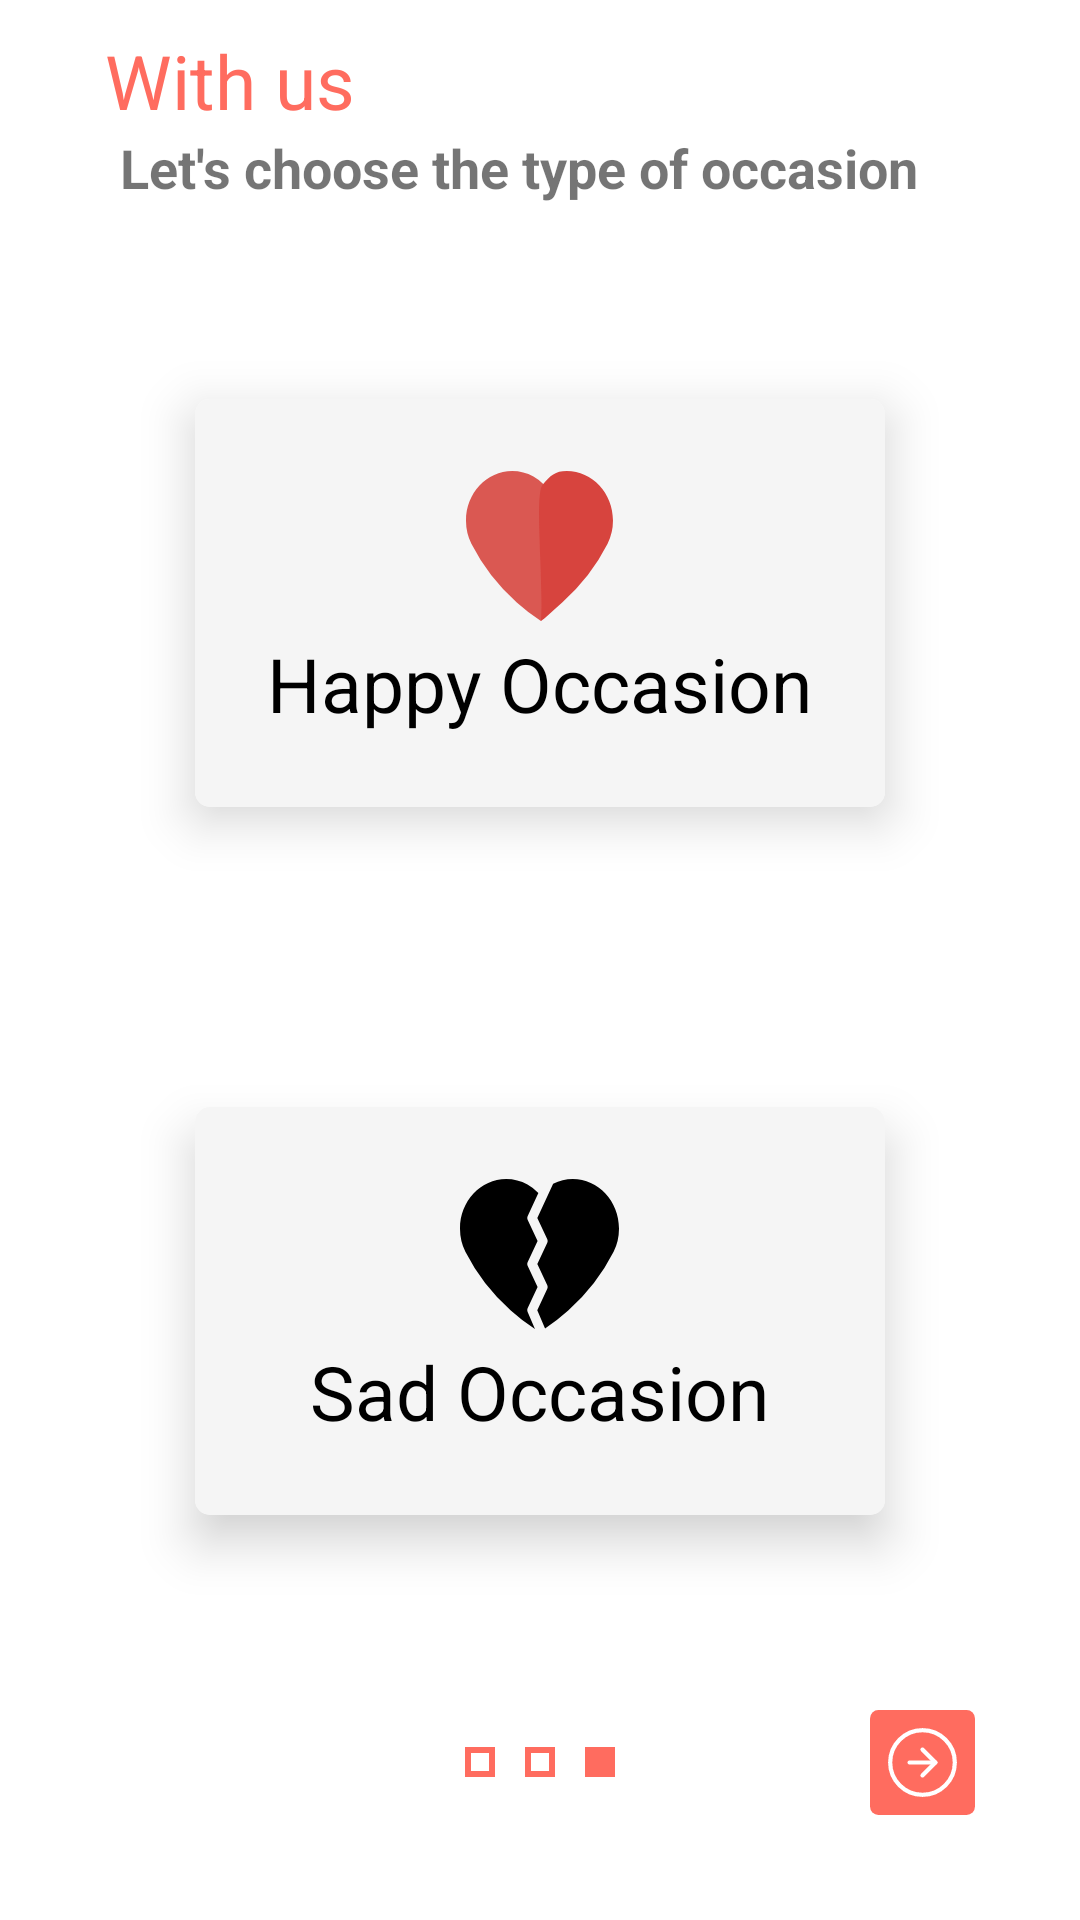

Point at icon controls on the screen. Image size 1080x1920, points as (x=x, y=y).
broken heart: (x=539, y=1254)
heart: (x=539, y=546)
next: (x=922, y=1762)
